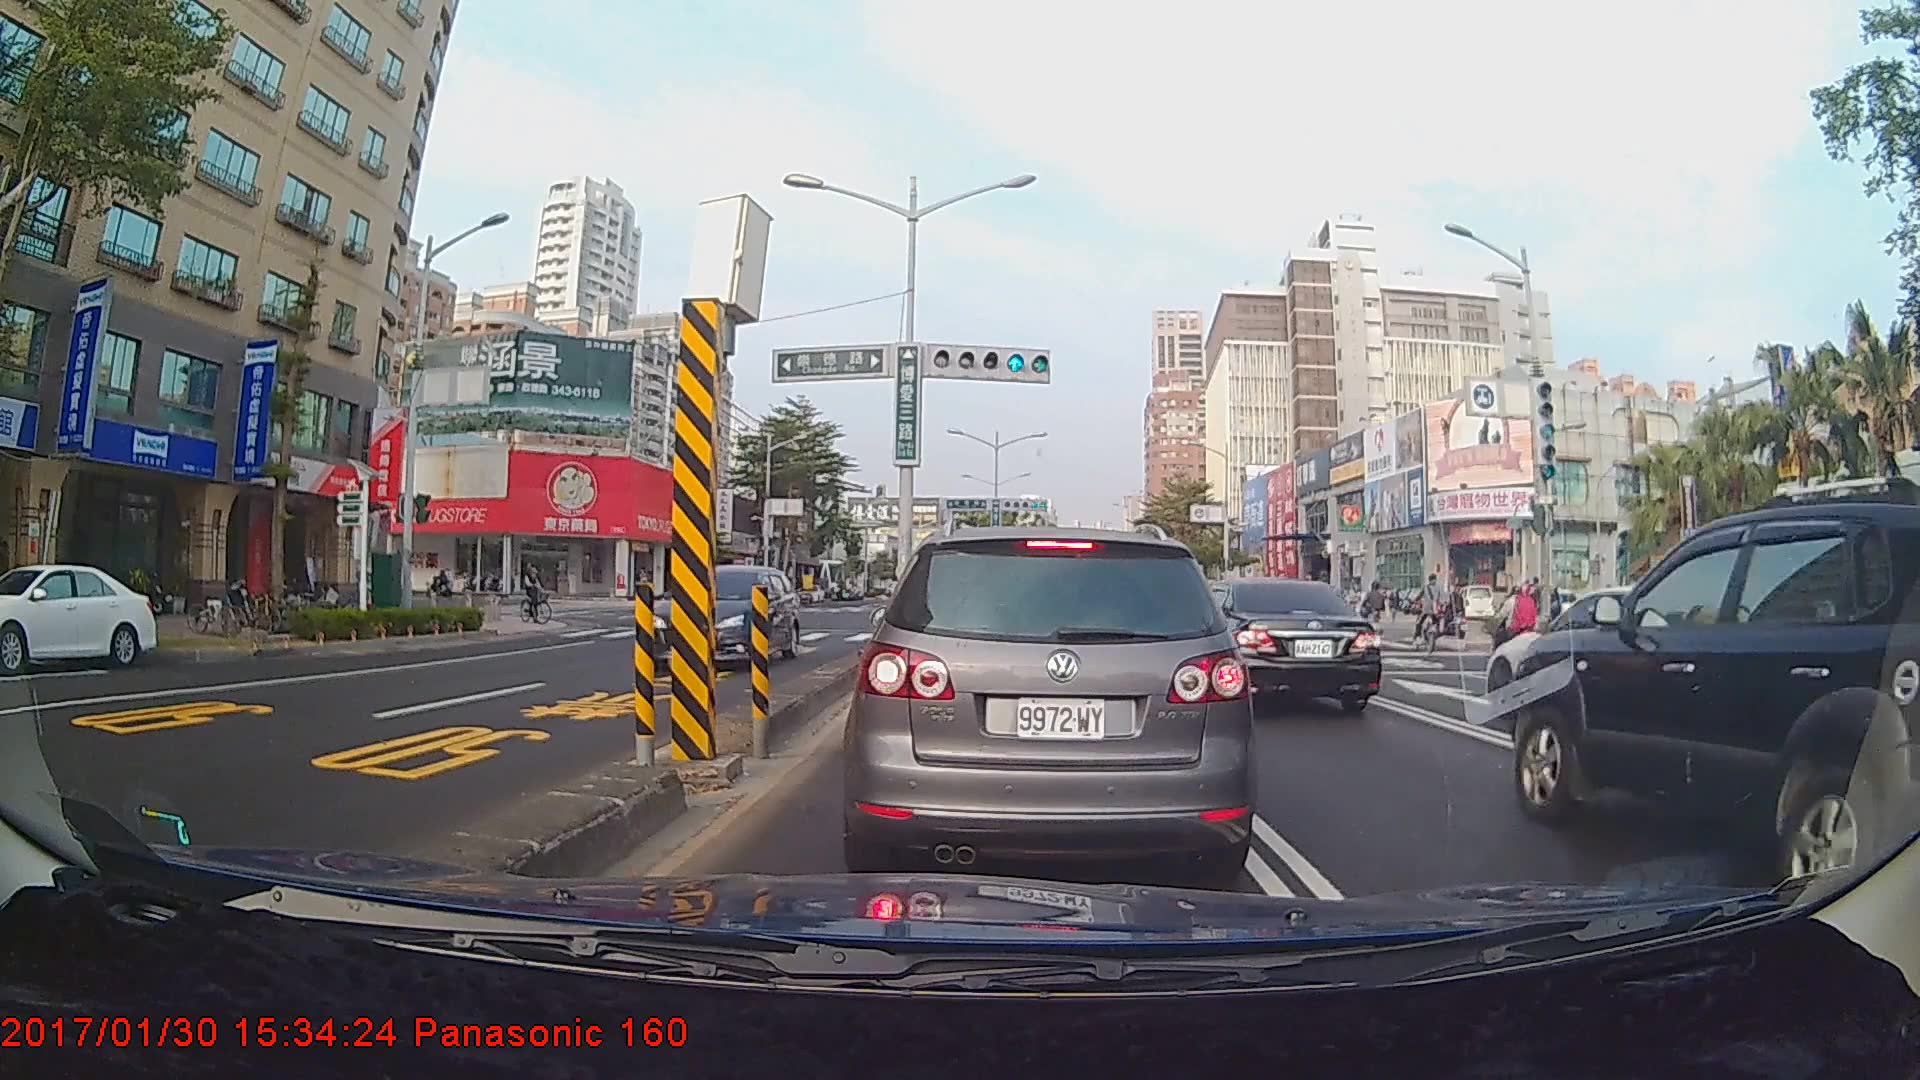rider: (1413, 570, 1450, 658), (518, 559, 561, 629), (1436, 582, 1473, 646), (432, 563, 459, 603)
vehicle: (1509, 499, 1920, 888), (849, 524, 1253, 875), (1165, 575, 1385, 715), (648, 562, 803, 674), (0, 561, 157, 671)
